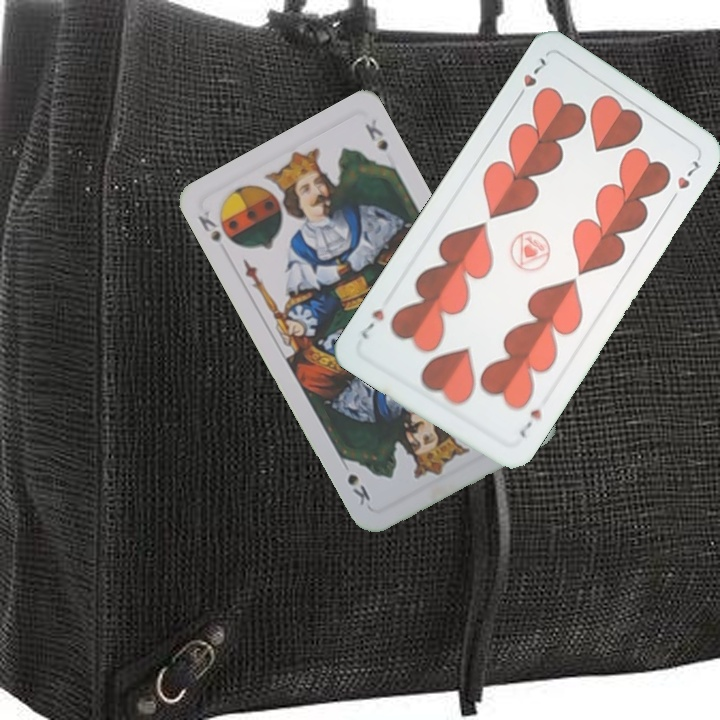H7: (511, 53, 552, 104), (514, 404, 545, 440)
SK: (194, 207, 239, 259)
